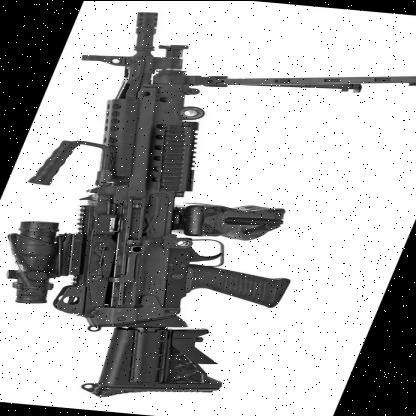rifle: (0, 8, 395, 414)
